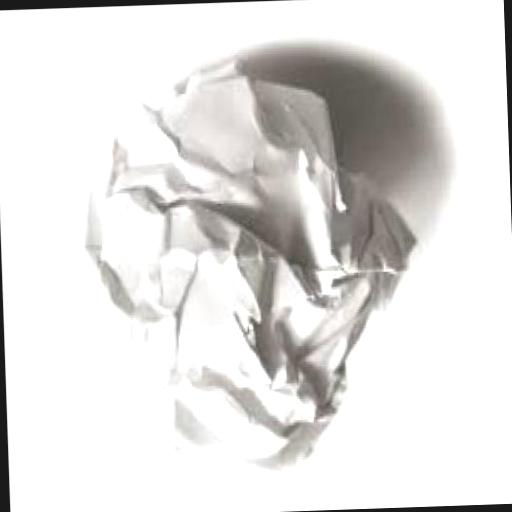paper: (70, 53, 420, 481)
